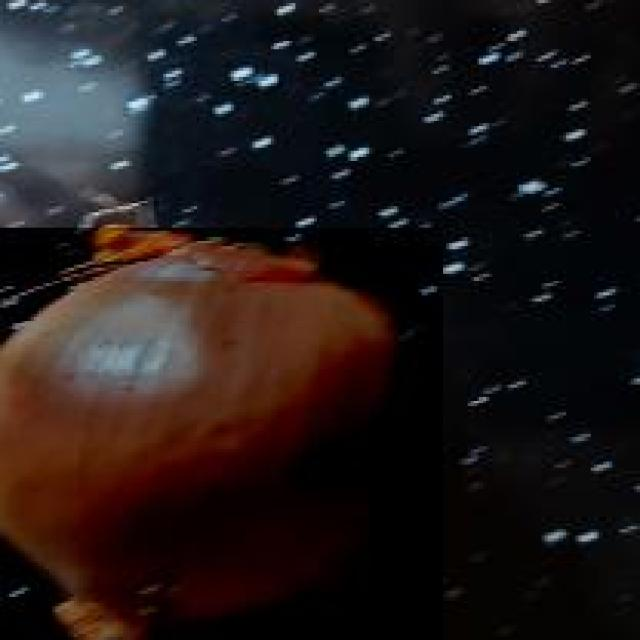onion: (0, 231, 443, 640)
